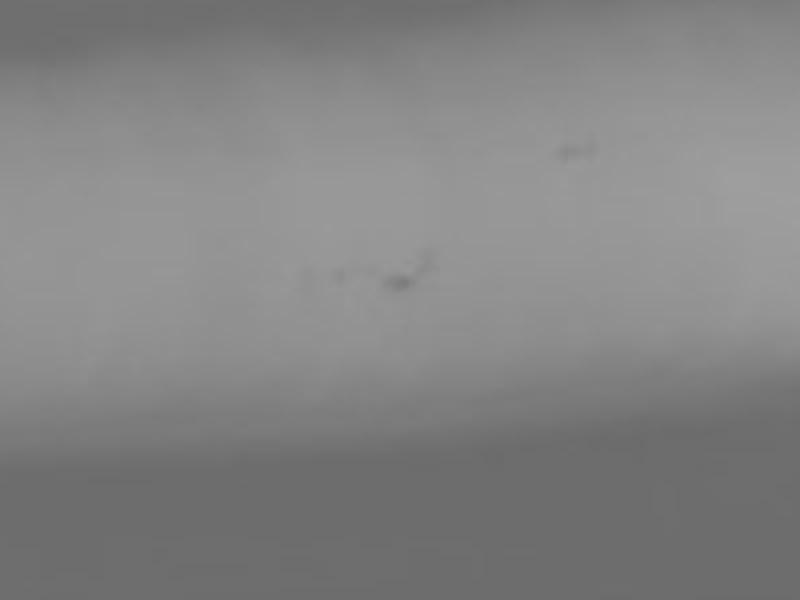defect: (385, 270, 411, 296), (416, 255, 436, 275), (326, 265, 346, 285), (579, 140, 598, 159), (557, 143, 574, 160)
